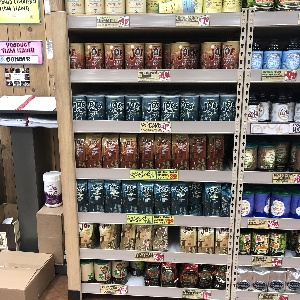void: (274, 134, 295, 172), (126, 260, 146, 287)
